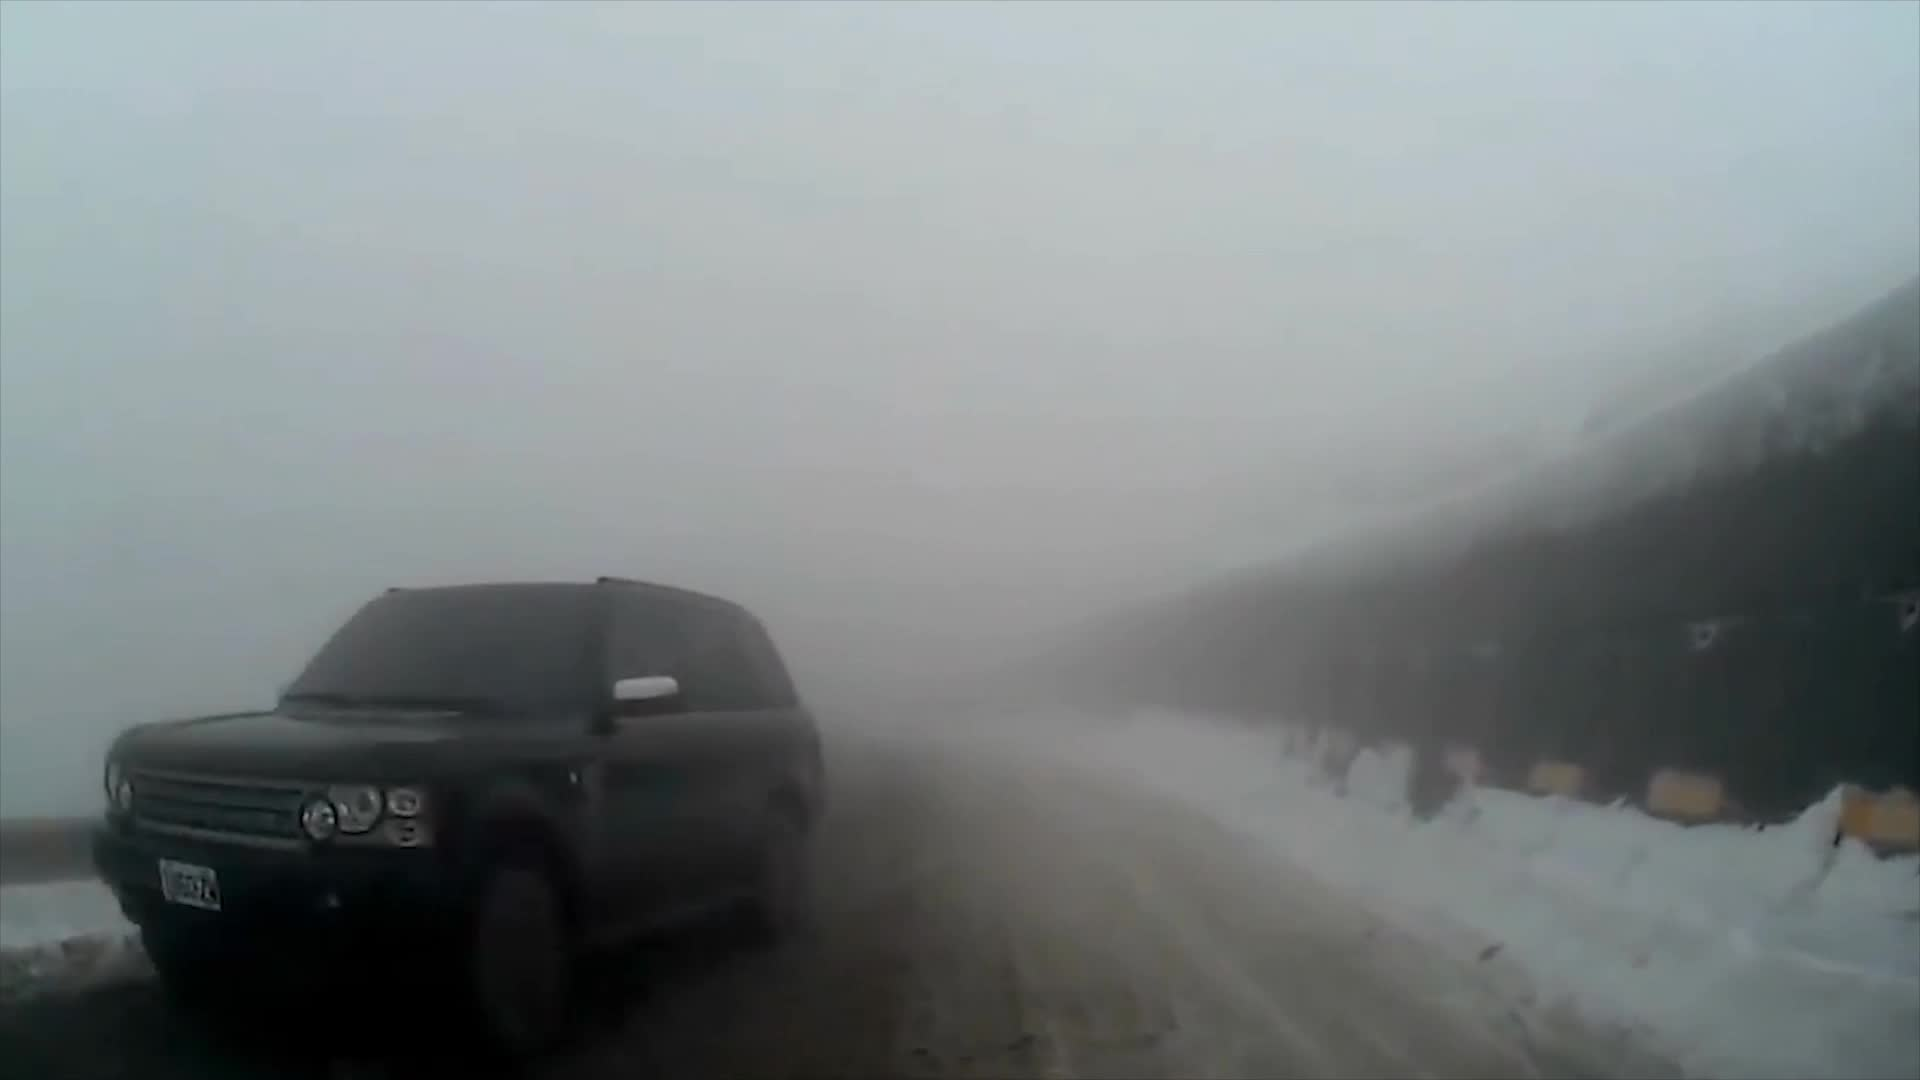vehicle: (88, 570, 827, 1071)
